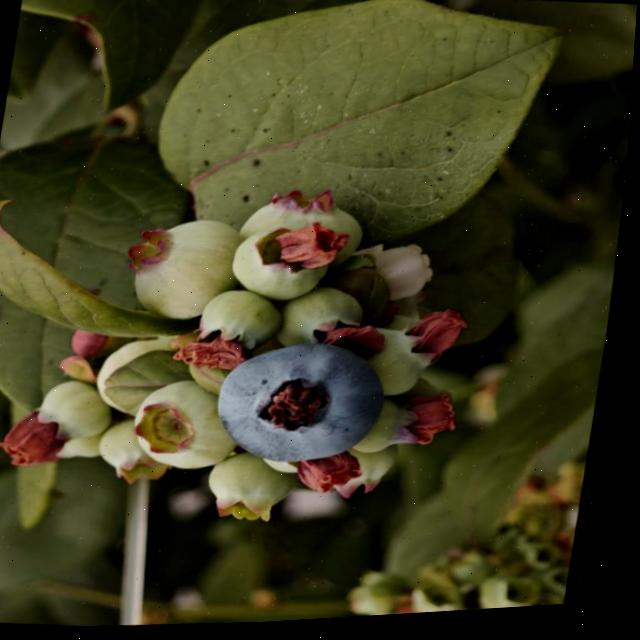RipeBlueBerry: (218, 333, 399, 475)
UnripeBlueBerry: (124, 209, 248, 326)
